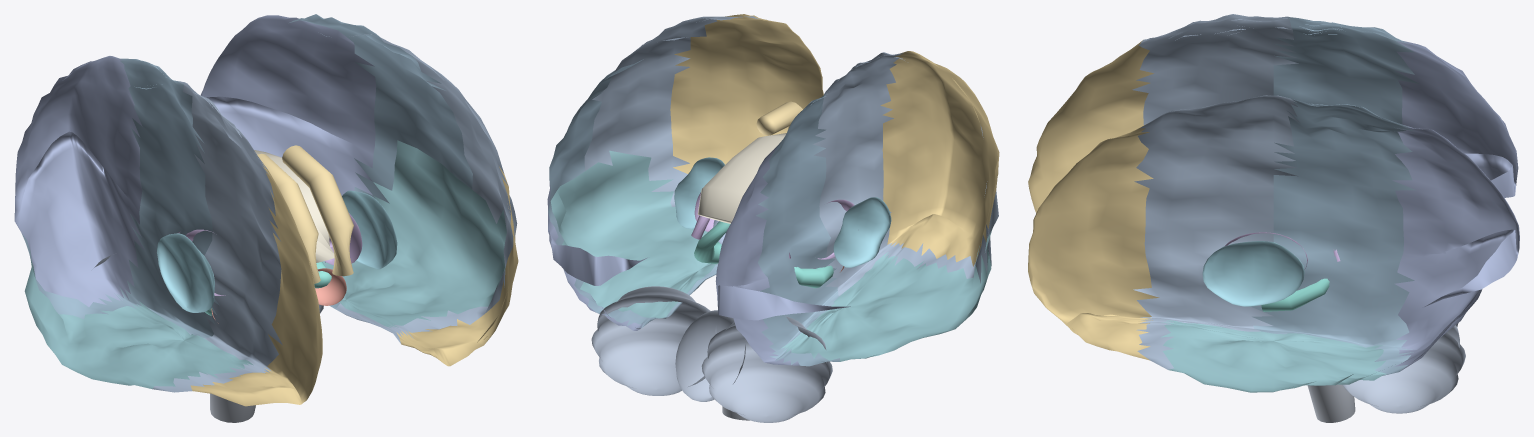
Rendered from human-brain-segmented.glb.
The picture shows the model from 3 angles, left to right: view 1: azimuth 30°, elevation 25°; view 2: azimuth 150°, elevation 25°; view 3: azimuth 270°, elevation 25°; orthographic projection. The views are drawn at different scales.
Parts seen in each view (by area): view 1: occipital_lobe, temporal_lobe, parietal_lobe, frontal_lobe, prefrontal_cortex, insula, anterior_cingulate_cortex, corpus_callosum, brainstem, amygdala, basal_ganglia; view 2: prefrontal_cortex, temporal_lobe, frontal_lobe, cerebellum, parietal_lobe, occipital_lobe, insula, corpus_callosum, hippocampus, anterior_cingulate_cortex, basal_ganglia; view 3: parietal_lobe, frontal_lobe, prefrontal_cortex, occipital_lobe, temporal_lobe, insula, cerebellum, brainstem, hippocampus.
Boxes of the visible parts, x1,y1,x2,y2 form: occipital_lobe: [14, 15, 376, 306]; temporal_lobe: [24, 140, 506, 388]; parietal_lobe: [21, 14, 472, 338]; frontal_lobe: [152, 34, 517, 392]; prefrontal_cortex: [190, 163, 518, 406]; insula: [157, 190, 397, 312]; anterior_cingulate_cortex: [257, 145, 353, 283]; corpus_callosum: [254, 150, 334, 262]; brainstem: [210, 393, 255, 422]; amygdala: [211, 268, 346, 323]; basal_ganglia: [178, 213, 362, 295]; prefrontal_cortex: [670, 14, 999, 266]; temporal_lobe: [550, 150, 992, 361]; frontal_lobe: [584, 16, 998, 296]; cerebellum: [591, 286, 832, 422]; parietal_lobe: [548, 59, 839, 366]; occipital_lobe: [547, 142, 850, 365]; insula: [674, 157, 891, 267]; corpus_callosum: [697, 133, 786, 223]; hippocampus: [694, 221, 833, 288]; anterior_cingulate_cortex: [756, 101, 802, 135]; basal_ganglia: [691, 192, 854, 259]; parietal_lobe: [1251, 17, 1419, 375]; frontal_lobe: [1132, 14, 1299, 369]; prefrontal_cortex: [1028, 40, 1159, 360]; occipital_lobe: [1392, 41, 1519, 370]; temporal_lobe: [1161, 319, 1386, 392]; insula: [1202, 241, 1304, 306]; cerebellum: [1342, 323, 1465, 413]; brainstem: [1307, 384, 1355, 422]; hippocampus: [1261, 278, 1329, 311].
Size of the model in its own units: 1.53 by 1.27 by 1.59.
